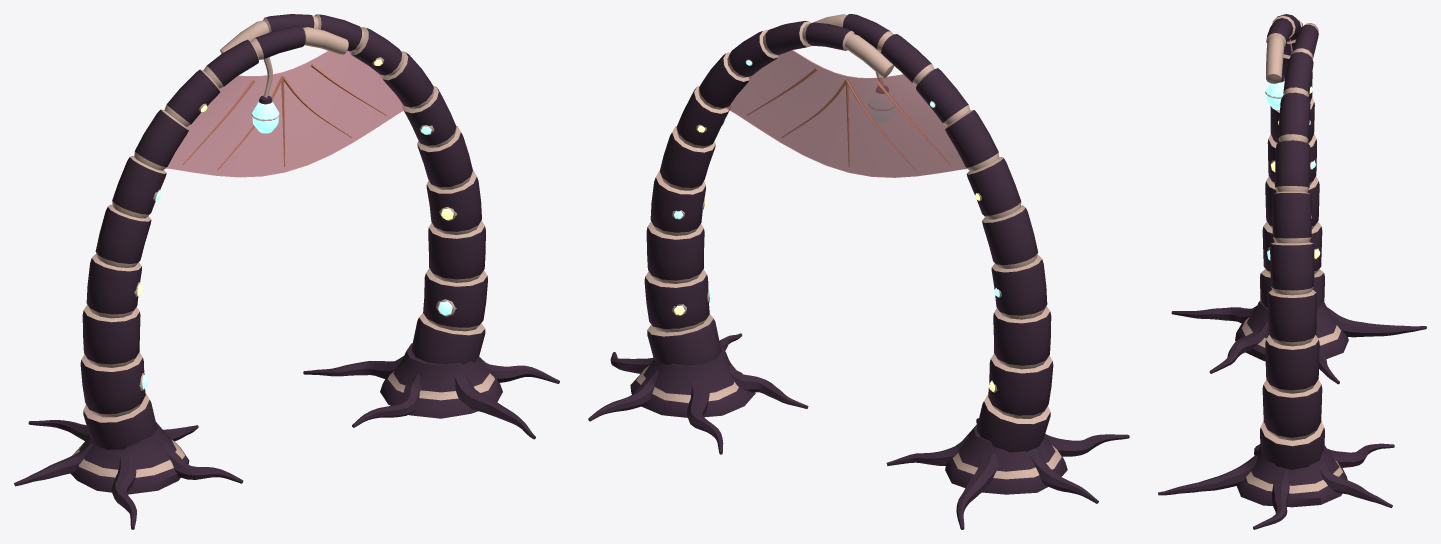
File: deco_chitin_arch.fbx
3 views of the same model, side by side, from view 1: azimuth 30°, elevation 25°; view 2: azimuth 150°, elevation 25°; view 3: azimuth 270°, elevation 25° (orthographic). The views are drawn at different scales.
Visible parts, largest first — view 1: ChitinArch_RibL, ChitinArch_RibR, ChitinArch_Web, ChitinArch_Lure, ChitinArch_Nodules; view 2: ChitinArch_RibL, ChitinArch_RibR, ChitinArch_Web, ChitinArch_Lure, ChitinArch_Nodules; view 3: ChitinArch_RibR, ChitinArch_RibL, ChitinArch_Lure.
Part boxes in pixels (x1=…): ChitinArch_RibL: x1=14, y1=26, x2=348, y2=529; ChitinArch_RibR: x1=220, y1=14, x2=559, y2=439; ChitinArch_Web: x1=166, y1=51, x2=407, y2=177; ChitinArch_Lure: x1=251, y1=57, x2=279, y2=133; ChitinArch_Nodules: x1=134, y1=57, x2=457, y2=390; ChitinArch_RibL: x1=812, y1=14, x2=1129, y2=529; ChitinArch_RibR: x1=588, y1=21, x2=893, y2=454; ChitinArch_Web: x1=726, y1=50, x2=966, y2=177; ChitinArch_Lure: x1=868, y1=51, x2=895, y2=122; ChitinArch_Nodules: x1=672, y1=59, x2=1001, y2=392; ChitinArch_RibR: x1=1158, y1=23, x2=1394, y2=529; ChitinArch_RibL: x1=1171, y1=14, x2=1426, y2=384; ChitinArch_Lure: x1=1265, y1=75, x2=1284, y2=110.
Bounding box in the file's own units: 608 × 462 × 292.
